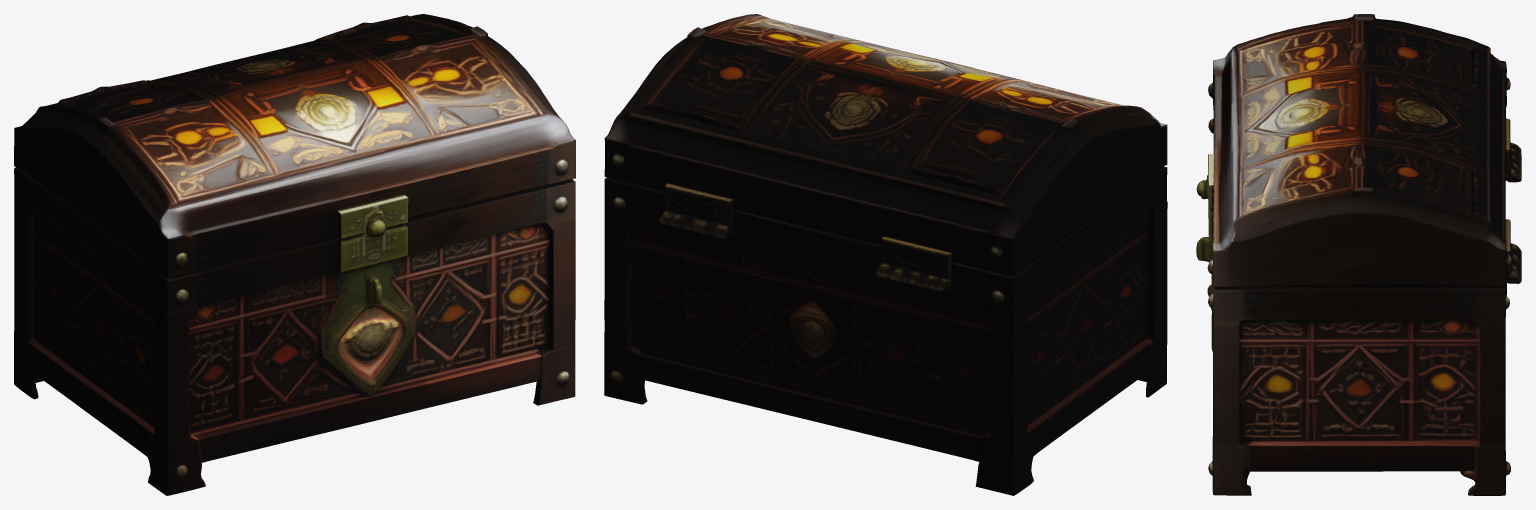
The model's file is wooden-treasure-chest-art-deco.jpeg.glb.
3 renders of one model, left to right at view 1: azimuth 30°, elevation 25°; view 2: azimuth 150°, elevation 25°; view 3: azimuth 270°, elevation 25°, orthographic. The views are drawn at different scales.
Parts seen in each view (by area): view 1: world; view 2: world; view 3: world.
Boxes of the visible parts, x1=… form: world: x1=14, y1=14, x2=575, y2=495; world: x1=604, y1=14, x2=1167, y2=495; world: x1=1196, y1=14, x2=1521, y2=495.
Bounding box in the file's own units: 1 × 0.7357 × 0.7233.
Materials: 1 (1 with a texture image).
